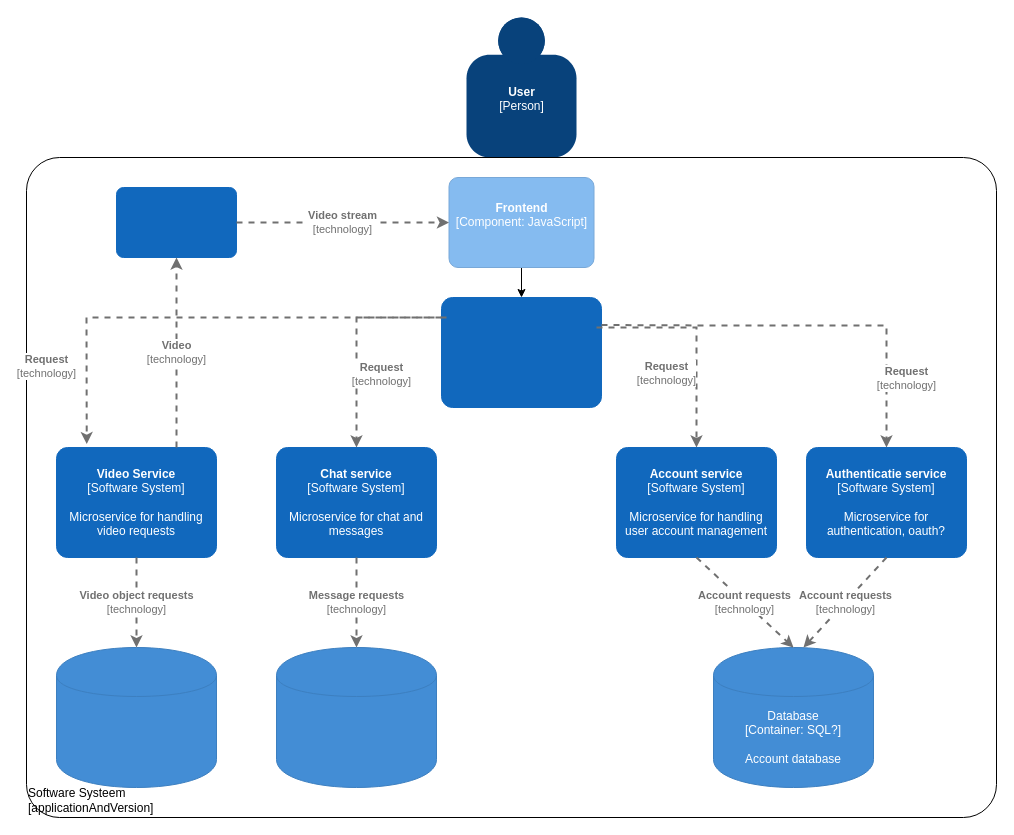
Image size: 1014x835. Some labels were removed from this diagram. Each missing label, with the centre of its shape:
API gateway [Software System]: the point at 521,352
Database [Container: SQL?] Messages database: the point at 356,717
Database [Container: SQL?] Video database: the point at 136,717
Message broker [Software System] Kafka?: the point at 176,222
